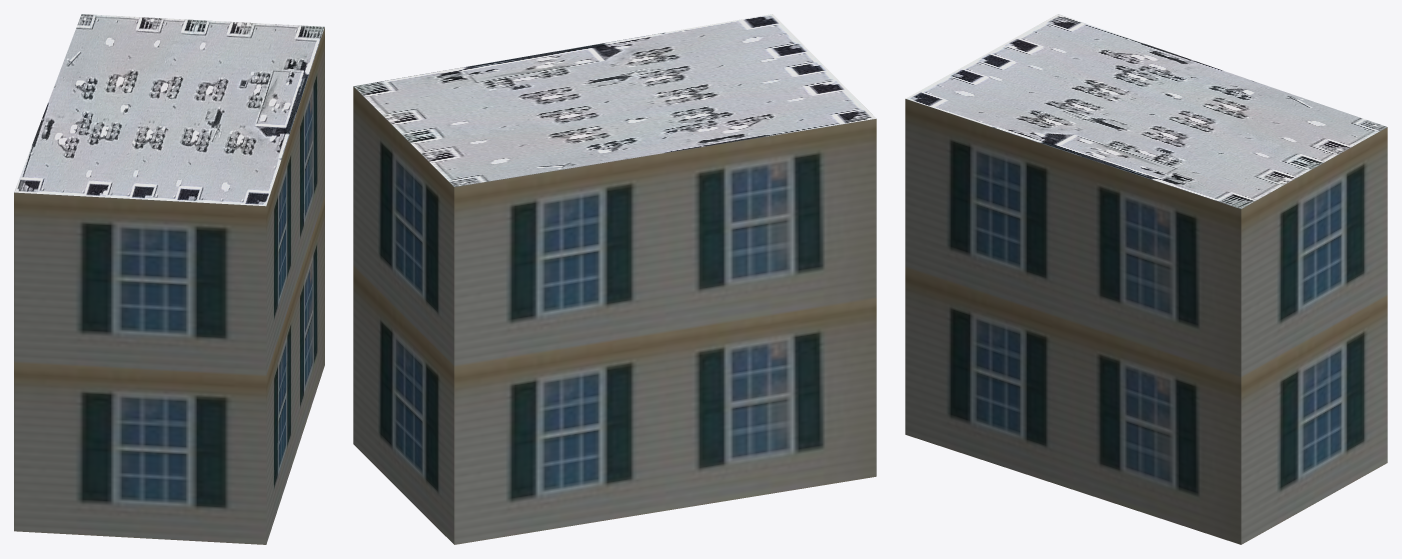
The model's file is ResTex__176.fbx.
3 views of the same model, side by side, from view 1: azimuth 30°, elevation 25°; view 2: azimuth 150°, elevation 25°; view 3: azimuth 270°, elevation 25° (orthographic). The views are drawn at different scales.
Parts seen in each view (by area): view 1: CityEngineMaterial_7_m, CityEngineMaterial_4_m; view 2: CityEngineMaterial_7_m, CityEngineMaterial_4_m; view 3: CityEngineMaterial_7_m, CityEngineMaterial_4_m.
Part boxes in pixels (x1,y1,x2,y2): CityEngineMaterial_7_m: [14, 27, 324, 544]; CityEngineMaterial_4_m: [14, 14, 324, 206]; CityEngineMaterial_7_m: [353, 86, 876, 544]; CityEngineMaterial_4_m: [353, 14, 876, 186]; CityEngineMaterial_7_m: [905, 99, 1387, 544]; CityEngineMaterial_4_m: [906, 14, 1386, 208].
Size of the model in its own units: 7.47 by 6 by 7.81.
Materials: 2 (2 with a texture image).
